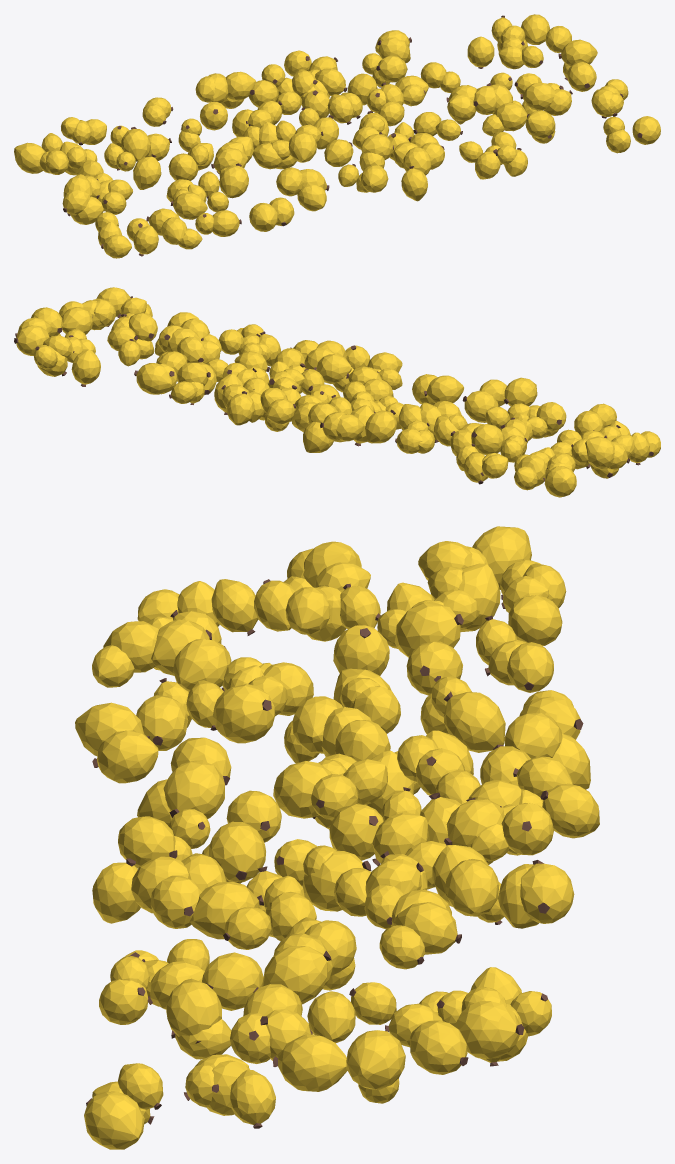
File: lemon.fbx
3 renders of one model, top to bottom at view 1: azimuth 30°, elevation 25°; view 2: azimuth 150°, elevation 25°; view 3: azimuth 270°, elevation 25°, orthographic. The views are drawn at different scales.
Visible parts, largest first — view 1: Lemon.135; view 2: Lemon.135; view 3: Lemon.135.
Boxes of the visible parts, left/top/right/bottom form: Lemon.135: left=14, top=14, right=660, bottom=258; Lemon.135: left=14, top=287, right=660, bottom=497; Lemon.135: left=75, top=526, right=599, bottom=1149.
Size of the model in its own units: 1260 by 159 by 520.
